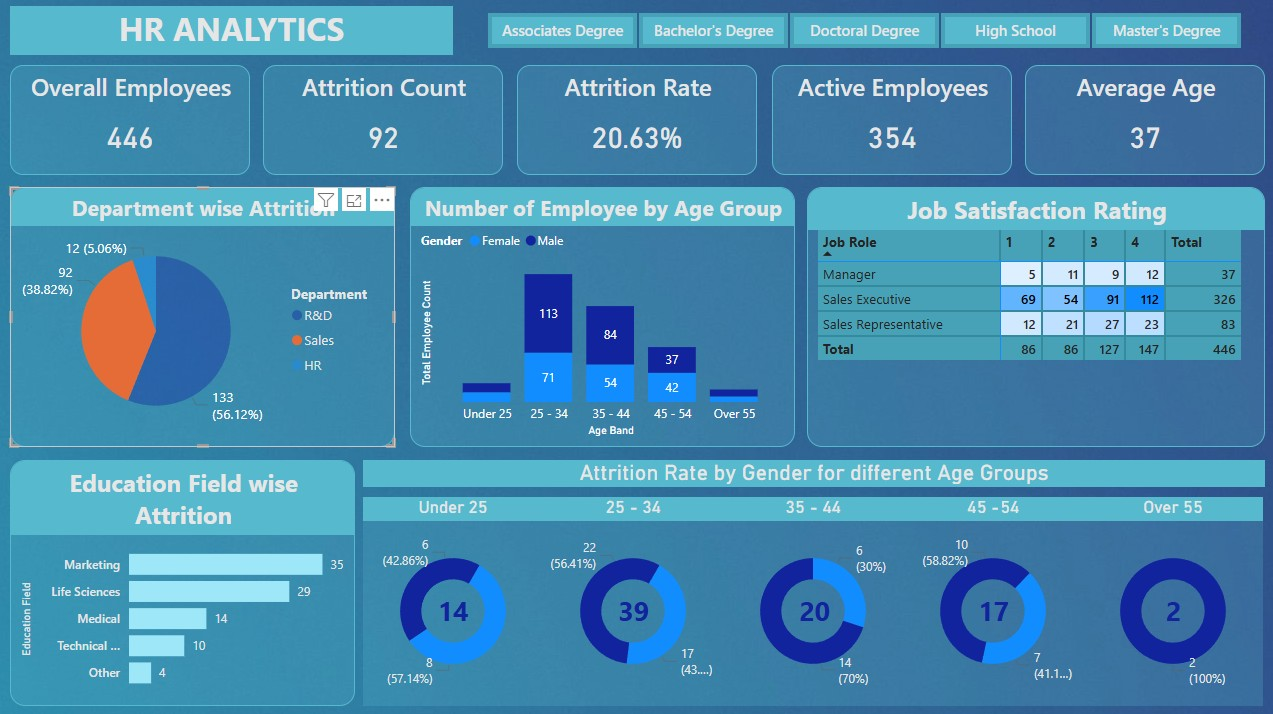

What the dashboard file says about the page in this screenshot:
{"tool":"powerbi","page":{"name":"Page 1","canvas":[1280,720],"ordinal":0},"visuals":[{"type":"card","title":"Overall Employees","fields":{"Values":["Sum(HR data.Employee Count)"]},"box":[12.5,67.5,240,110],"z":0},{"type":"card","title":"Attrition Count","fields":{"Values":["Sum(HR data.Attrition Count)"]},"box":[266.2,67.5,240,110],"z":1000},{"type":"card","title":"Attrition Rate","fields":{"Values":["HR data.Attrition Rate"]},"box":[520,67.5,240,110],"z":2000},{"type":"card","title":"Active Employees","fields":{"Values":["HR data.Active Employees"]},"box":[775,67.5,240,110],"z":3000},{"type":"card","title":"Average Age","fields":{"Values":["Avg(HR data.Age)"]},"box":[1027.5,67.5,240,110],"z":4000},{"type":"pieChart","title":"Department wise Attrition","fields":{"Category":["HR data.Department"],"Y":["Sum(HR data.Attrition Count)"]},"box":[12.5,190,385,260],"z":5000},{"type":"columnChart","title":"Number of Employee by Age Group","fields":{"Category":["HR data.CF_age band"],"Y":["Sum(HR data.Employee Count)"],"Series":["HR data.Gender"]},"box":[412.5,190,385,260],"z":6000},{"type":"pivotTable","title":"Job Satisfaction Rating","fields":{"Rows":["HR data.Job Role"],"Columns":["HR data.Job Satisfaction"],"Values":["Sum(HR data.Employee Count)"]},"box":[810,190,457.5,260],"z":7000},{"type":"barChart","title":"Education Field wise Attrition","fields":{"Category":["HR data.Education Field"],"Y":["Sum(HR data.Attrition Count)"]},"box":[12.5,462.5,345,246.2],"z":8000},{"type":"donutChart","title":"Under 25","fields":{"Category":["HR data.Gender"],"Y":["Sum(HR data.Attrition Count)"],"Series":["HR data.CF_age band"]},"box":[366.2,500,180,208.8],"z":9000},{"type":"textbox","title":"Attrition Rate by Gender for different Age Groups","box":[366.2,462.5,901.2,27.5],"z":10000},{"type":"donutChart","title":"25 - 34","fields":{"Category":["HR data.Gender"],"Y":["Sum(HR data.Attrition Count)"],"Series":["HR data.CF_age band"]},"box":[546.2,500,180,208.8],"z":11000},{"type":"donutChart","title":"35 - 44","fields":{"Category":["HR data.Gender"],"Y":["Sum(HR data.Attrition Count)"],"Series":["HR data.CF_age band"]},"box":[726.2,500,180,208.8],"z":12000},{"type":"donutChart","title":"45 -54","fields":{"Category":["HR data.Gender"],"Y":["Sum(HR data.Attrition Count)"],"Series":["HR data.CF_age band"]},"box":[906.2,500,180,208.8],"z":13000},{"type":"donutChart","title":"Over 55","fields":{"Category":["HR data.Gender"],"Y":["Sum(HR data.Attrition Count)"],"Series":["HR data.CF_age band"]},"box":[1086.2,500,180,208.8],"z":14000},{"type":"card","fields":{"Values":["Sum(HR data.Attrition Count)"]},"box":[433.6,594.5,44.5,40],"z":15000},{"type":"card","fields":{"Values":["Sum(HR data.Attrition Count)"]},"box":[599.1,579.1,74.5,70.9],"z":16000},{"type":"card","fields":{"Values":["Sum(HR data.Attrition Count)"]},"box":[780,579.1,74.5,70.9],"z":17000},{"type":"card","fields":{"Values":["Sum(HR data.Attrition Count)"]},"box":[959.1,579.1,74.5,70.9],"z":18000},{"type":"card","fields":{"Values":["Sum(HR data.Attrition Count)"]},"box":[1139.1,579.1,74.5,70.9],"z":19000},{"type":"textbox","title":"HR ANALYTICS DASHBOARD","box":[12.5,8.8,443.8,48.8],"z":20000},{"type":"slicer","fields":{"Values":["HR data.Education"]},"box":[465,8.8,802.5,48.8],"z":21000}]}

Visuals, with their boxes in screenshot pixels (x1, y1, x2, y2), scaled from the page's 1280x720 canvas onto the 1273x714 screenshot:
"Overall Employees" card: bbox(12, 67, 251, 176)
"Attrition Count" card: bbox(265, 67, 503, 176)
"Attrition Rate" card: bbox(517, 67, 756, 176)
"Active Employees" card: bbox(771, 67, 1009, 176)
"Average Age" card: bbox(1022, 67, 1261, 176)
"Department wise Attrition" pieChart: bbox(12, 188, 395, 446)
"Number of Employee by Age Group" columnChart: bbox(410, 188, 793, 446)
"Job Satisfaction Rating" pivotTable: bbox(806, 188, 1261, 446)
"Education Field wise Attrition" barChart: bbox(12, 459, 356, 703)
"Under 25" donutChart: bbox(364, 496, 543, 703)
"Attrition Rate by Gender for different Age Groups" textbox: bbox(364, 459, 1260, 486)
"25 - 34" donutChart: bbox(543, 496, 722, 703)
"35 - 44" donutChart: bbox(722, 496, 901, 703)
"45 -54" donutChart: bbox(901, 496, 1080, 703)
"Over 55" donutChart: bbox(1080, 496, 1259, 703)
card - Sum(HR data.Attrition Count): bbox(431, 590, 475, 629)
card - Sum(HR data.Attrition Count): bbox(596, 574, 670, 645)
card - Sum(HR data.Attrition Count): bbox(776, 574, 850, 645)
card - Sum(HR data.Attrition Count): bbox(954, 574, 1028, 645)
card - Sum(HR data.Attrition Count): bbox(1133, 574, 1207, 645)
"HR ANALYTICS DASHBOARD" textbox: bbox(12, 9, 454, 57)
slicer - HR data.Education: bbox(462, 9, 1261, 57)
